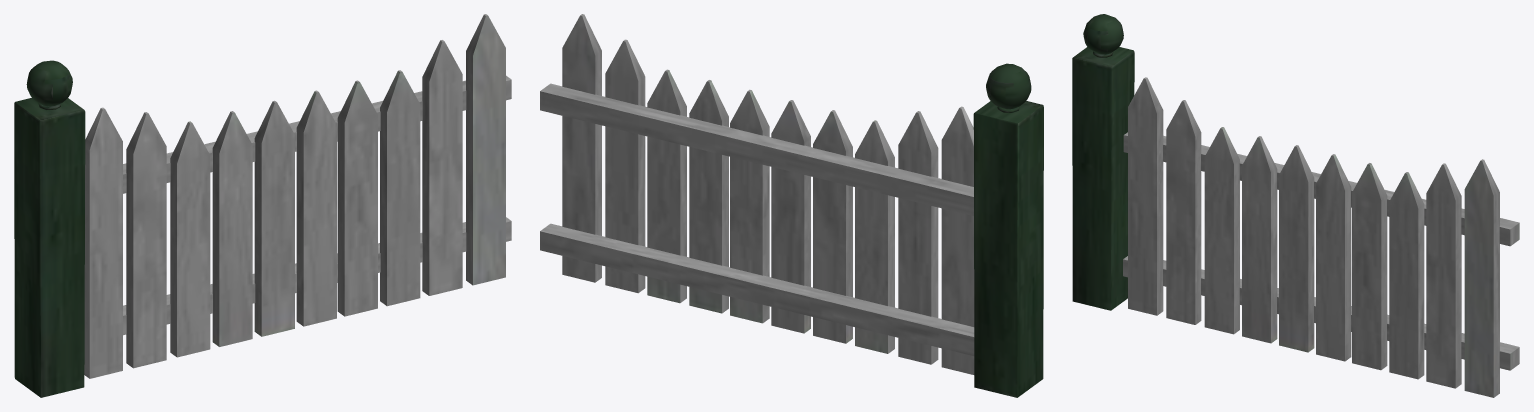
The model's file is picket-fence.lod1.glb.
The picture shows the model from 3 angles, left to right: view 1: azimuth 30°, elevation 25°; view 2: azimuth 150°, elevation 25°; view 3: azimuth 330°, elevation 25°; orthographic projection. The views are drawn at different scales.
Parts seen in each view (by area): view 1: defaultMaterial; view 2: defaultMaterial; view 3: defaultMaterial.
Part boxes in pixels (x1,y1,x2,y2): defaultMaterial: [14, 14, 511, 397]; defaultMaterial: [540, 14, 1043, 397]; defaultMaterial: [1072, 14, 1519, 397].
Bounding box in the file's own units: 2.3 × 1.45 × 0.221.
1 material, 1 textured.
